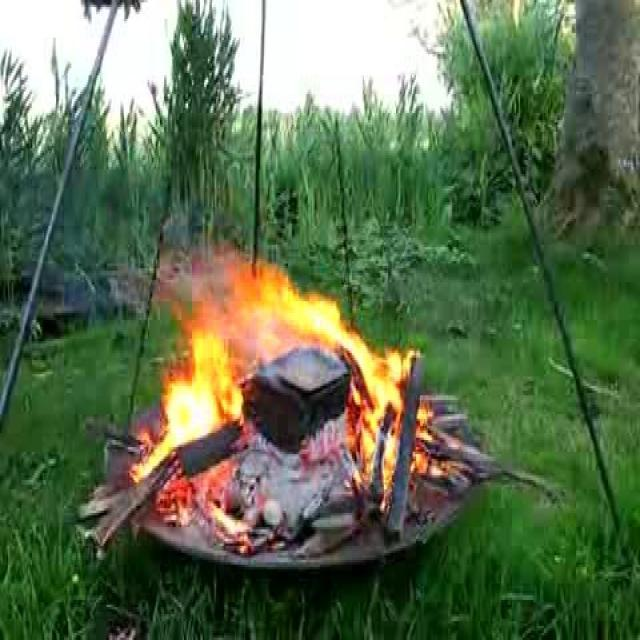Fire: (161, 273, 412, 484)
